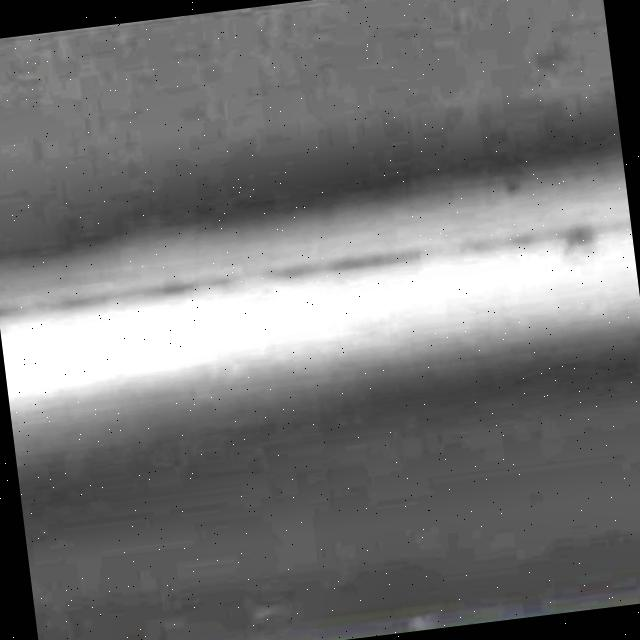LoP-LoF: (0, 182, 637, 355)
Pore: (564, 218, 602, 255)
